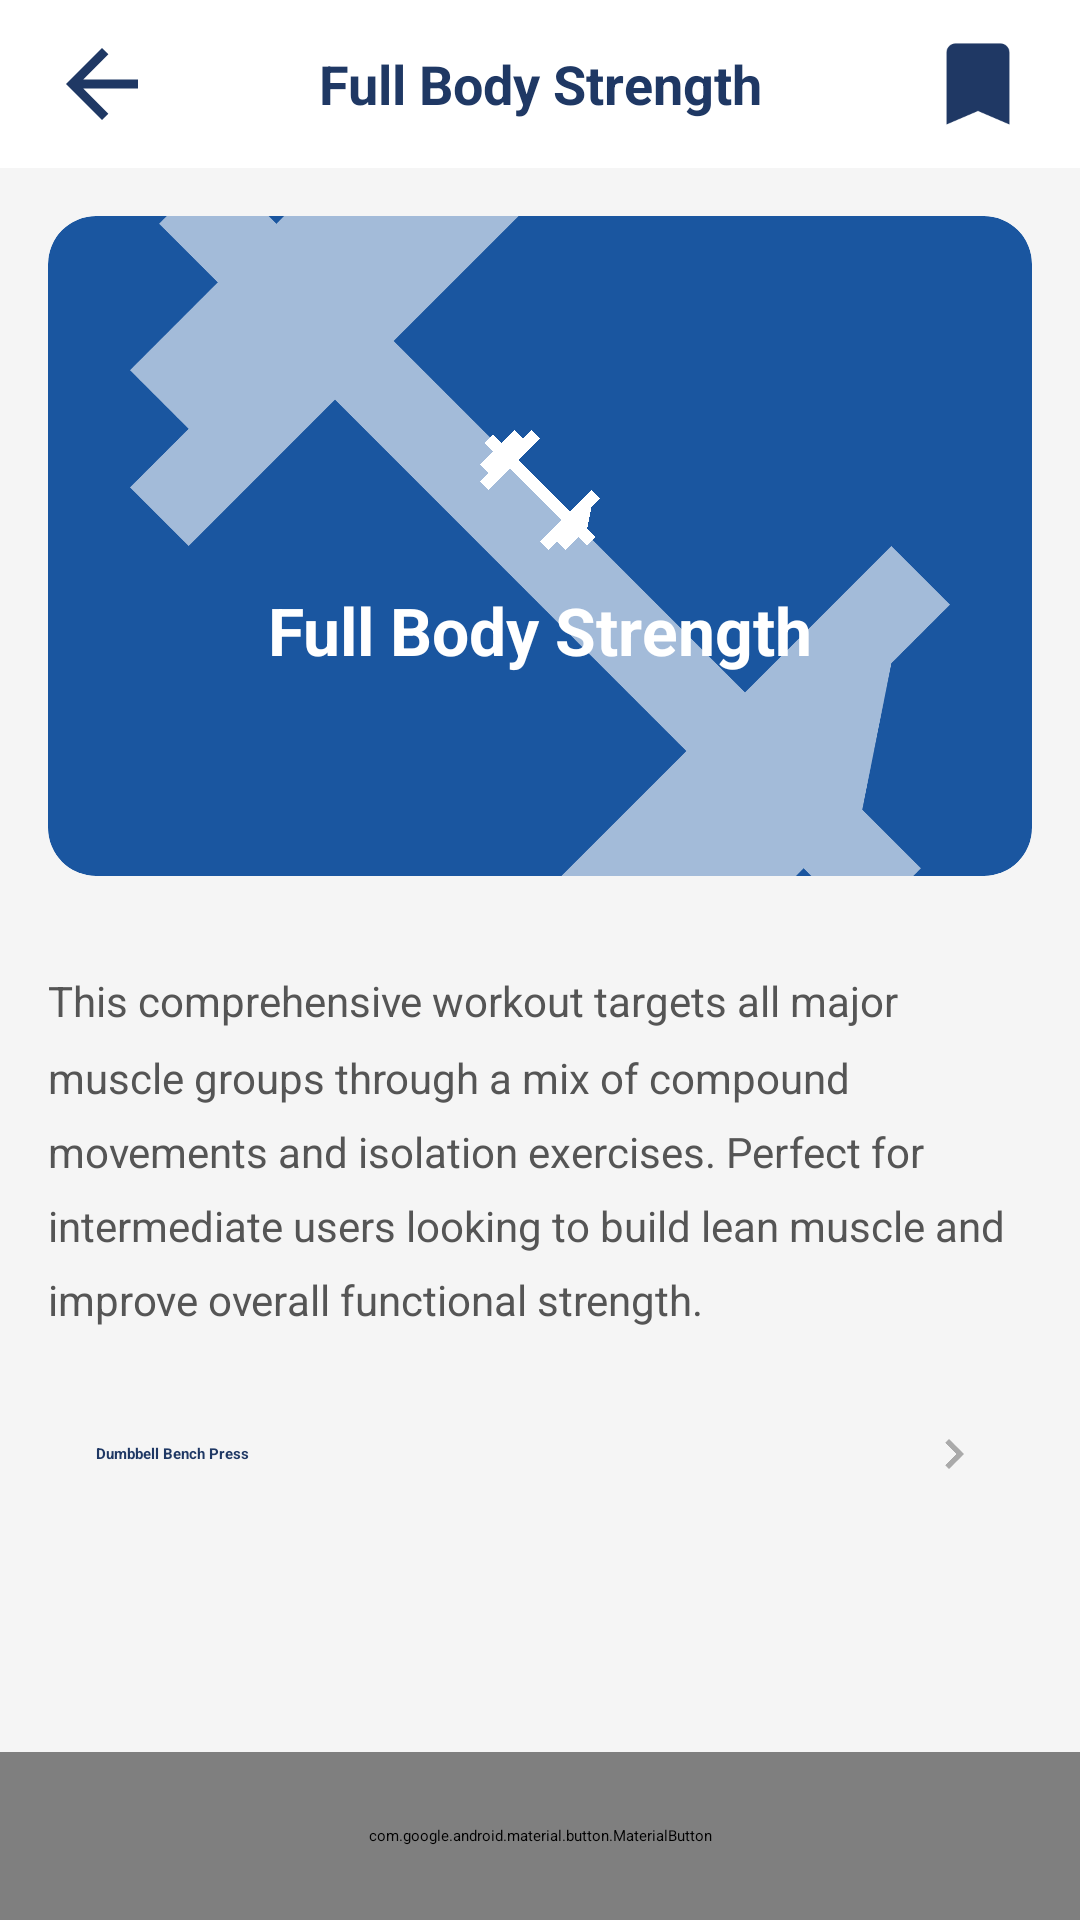

Icons on this 1080px×1920px Android screen, each with its box as (x1, y1, x2, y2):
back arrow: (66, 48, 138, 120)
bookmark: (946, 43, 1010, 125)
chevron right: (945, 1439, 964, 1469)
